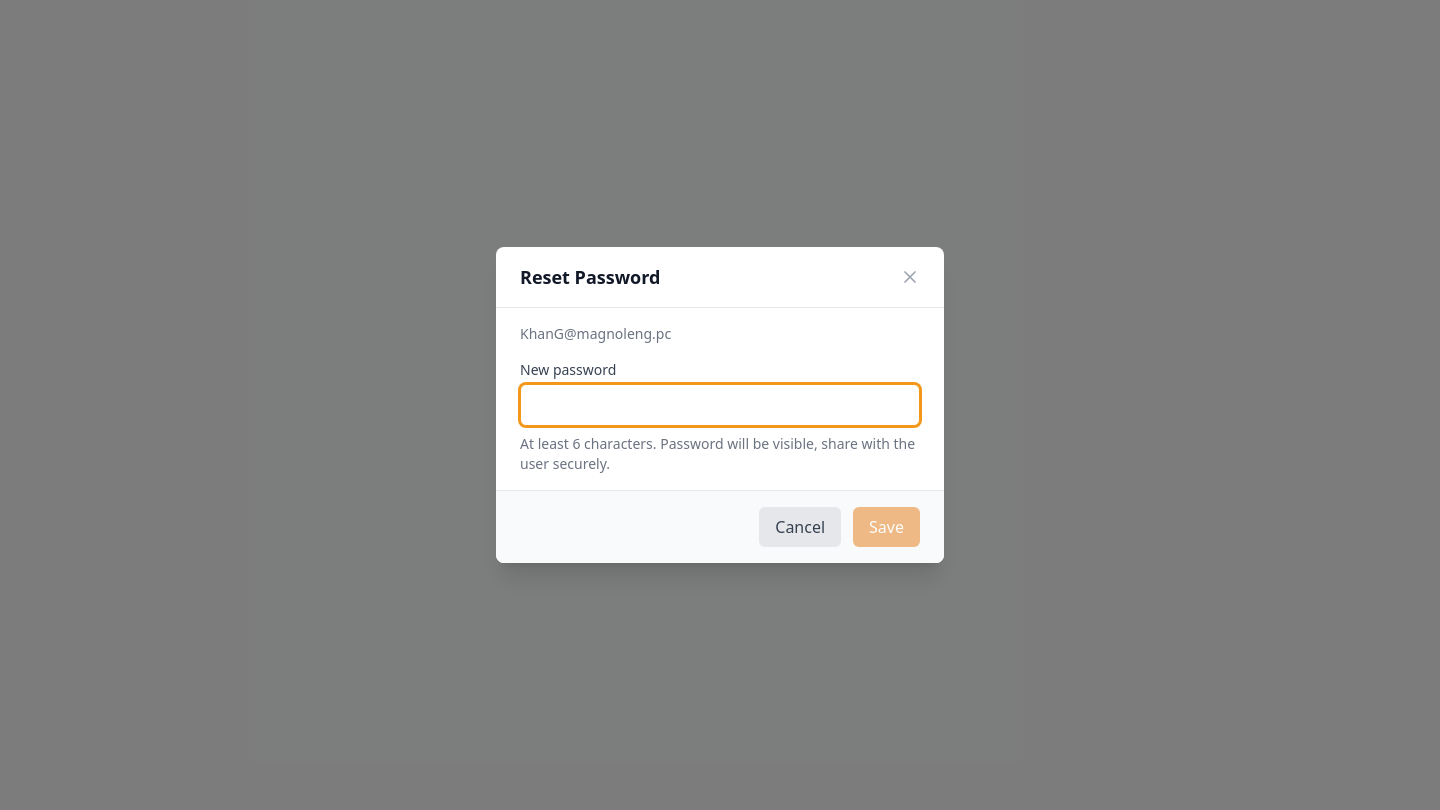
Test: AdminResetPasswordModal › shows a refusal inline as the backend worded it, stays open and keeps what was typed
Step 1. Type "test1234" into the field labelled "New password" → [720, 405], box [520,384,920,426]
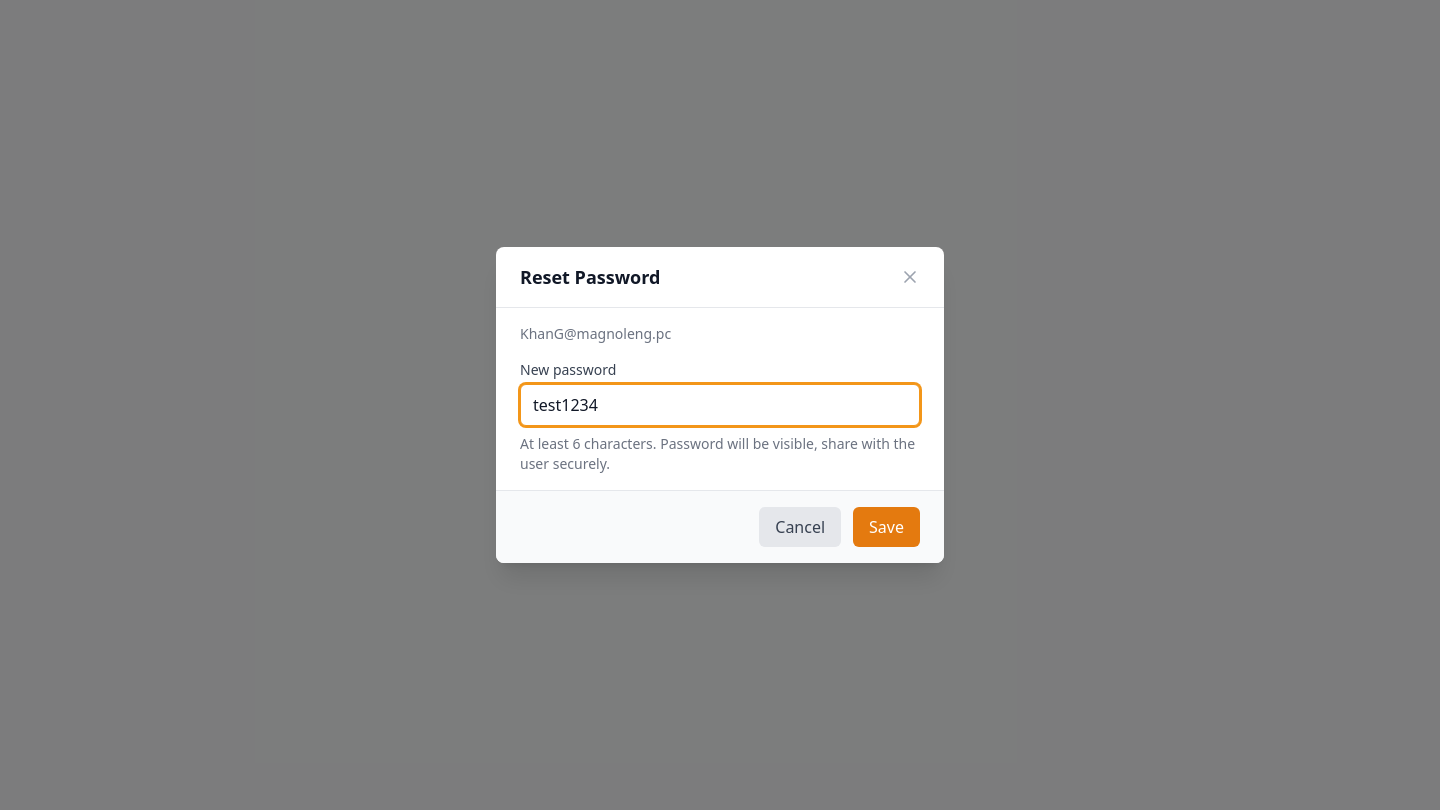
Step 2. Click the button "Save" → [887, 527], box [853,507,920,547]
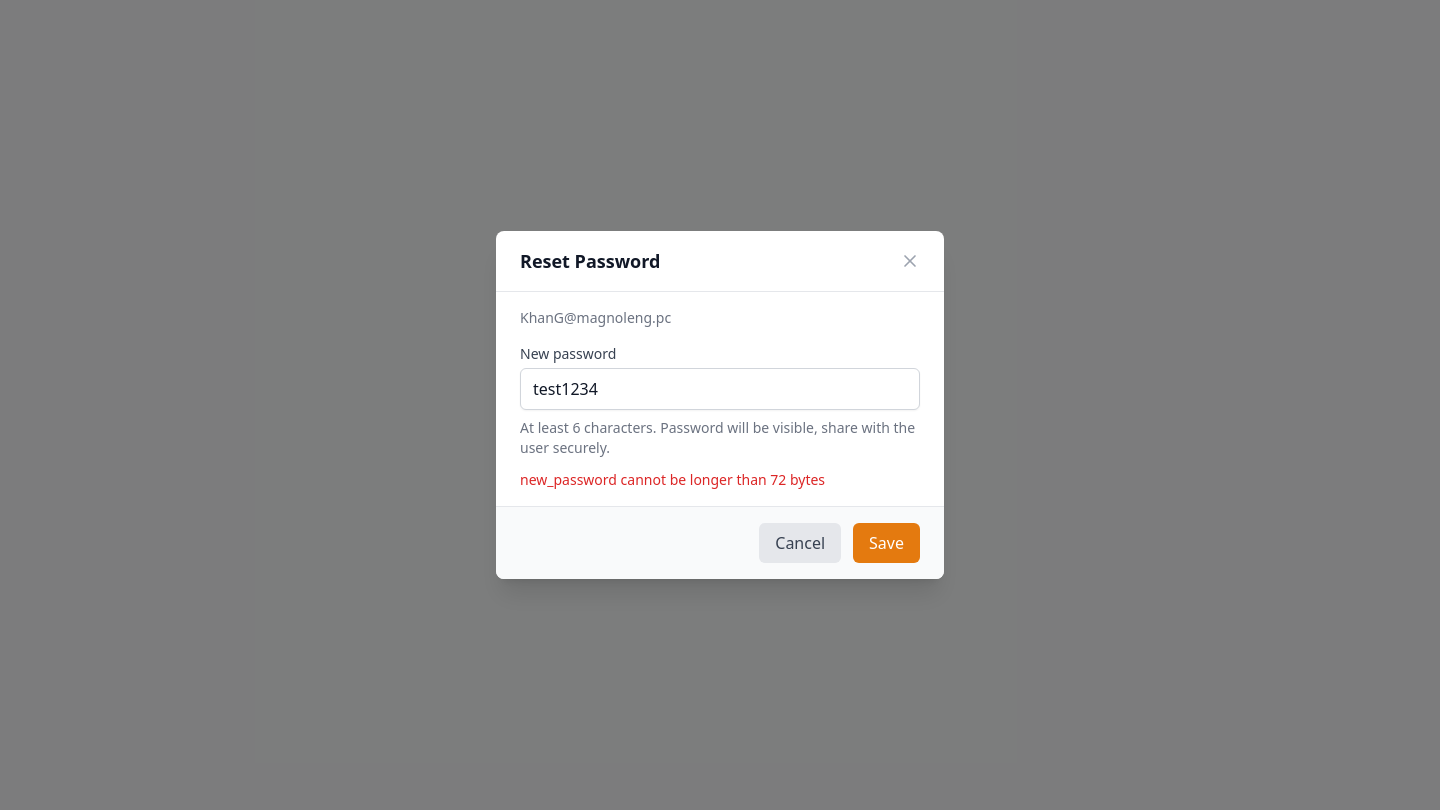
Now the message reads "new_password cannot be longer than 72 bytes", box [520,470,825,489]
